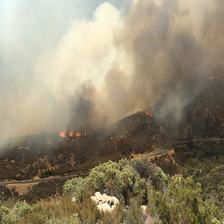fire: (53, 115, 98, 145)
